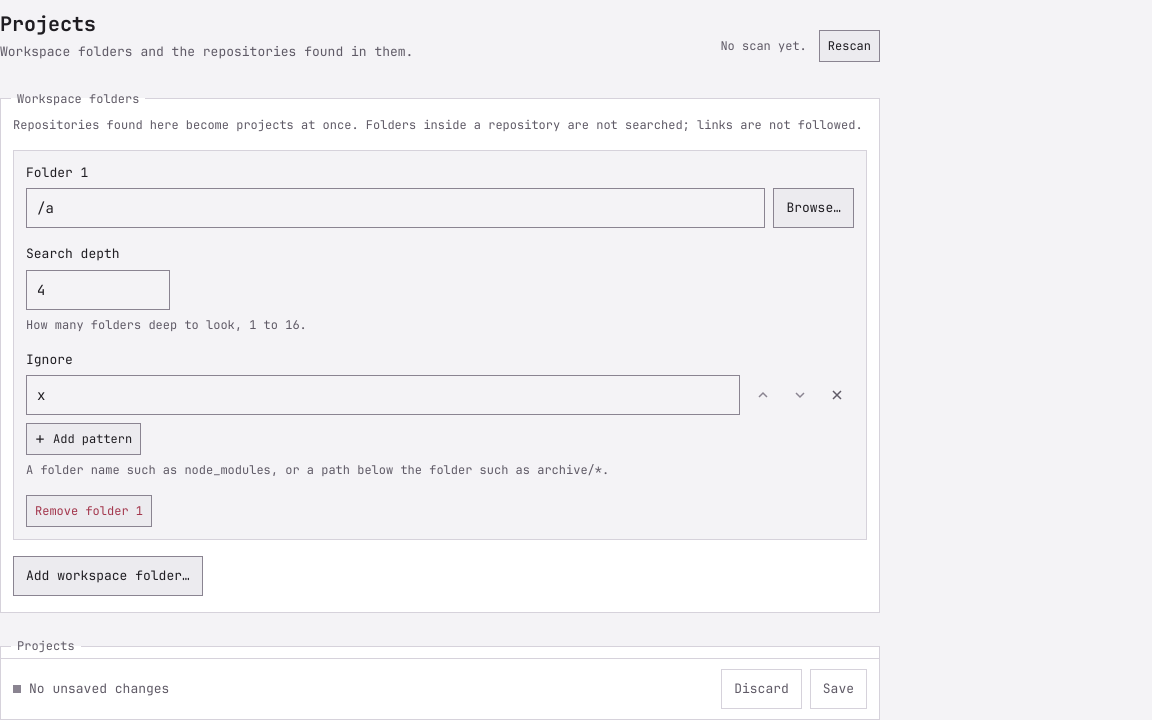
Test: a refused folder shows the server message under the field the server names, and focus moves there
Replace the text in the field labelled "Folder 1" with "relative/path" at (396, 208), box [26,188,765,228]
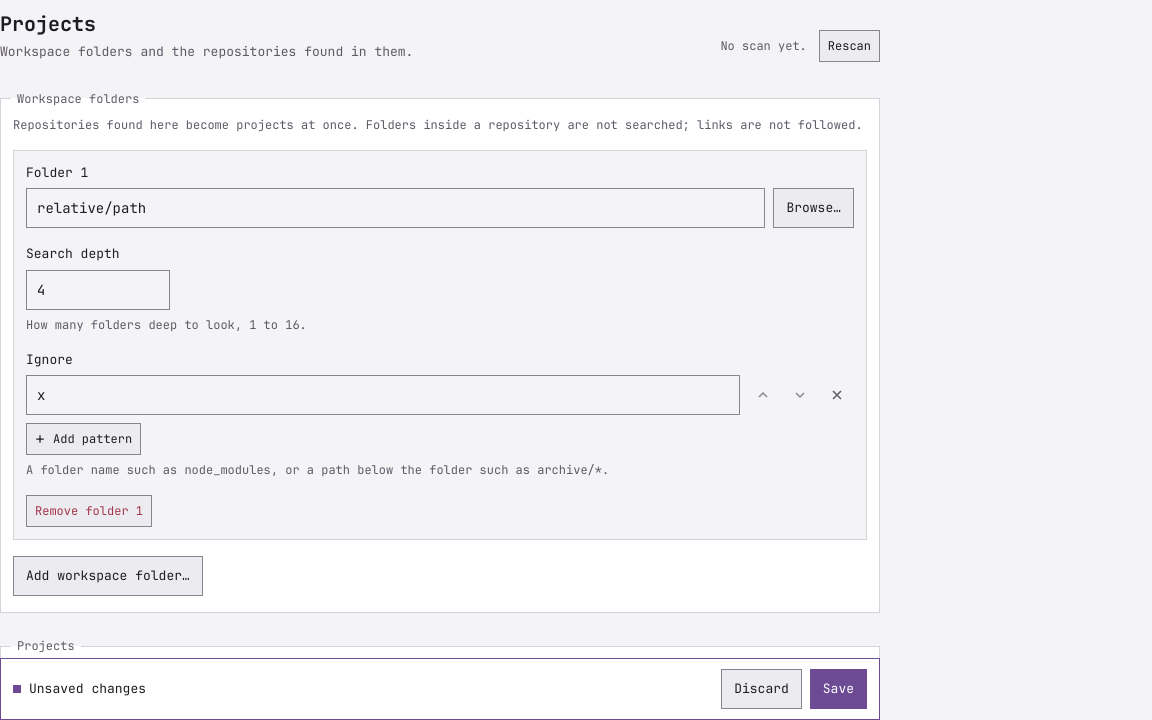
Click the button "Save" at (838, 689), box [810,669,867,709]
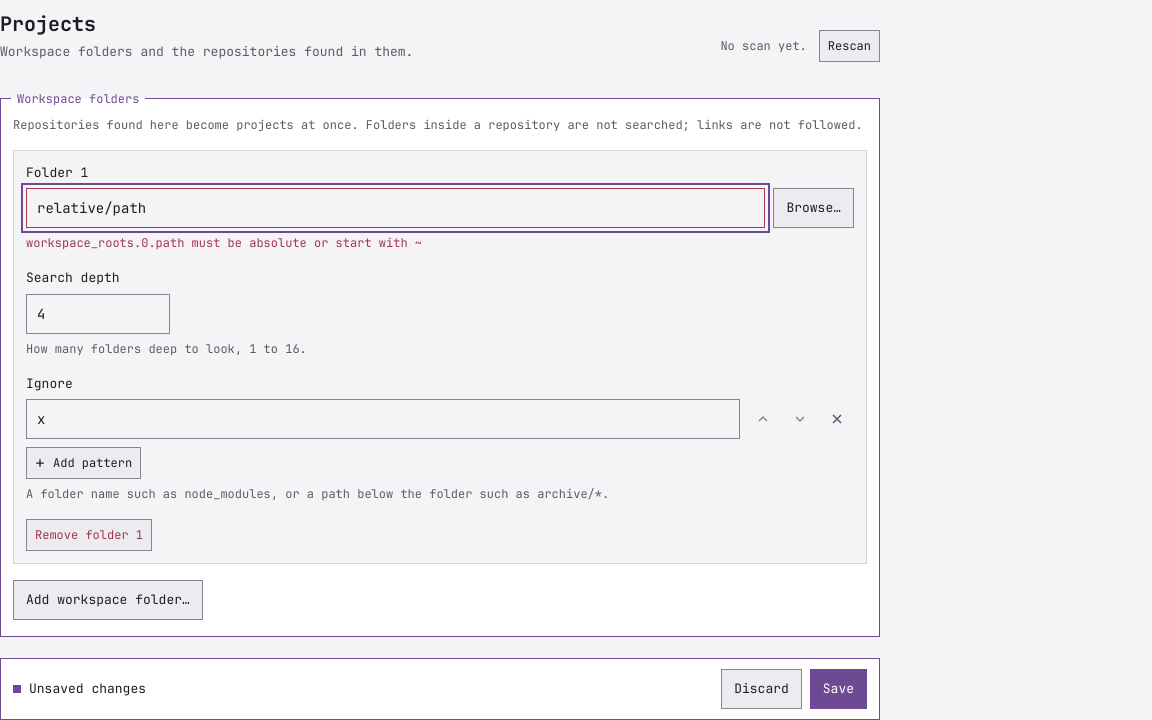
Result: the text with class "omo-field__error" reads "workspace_roots.0.path must be absolute or start with ~" at [26,235,422,251]
Replace the text in the field labelled "Folder 1" with "/b" at (396, 208), box [26,188,765,228]
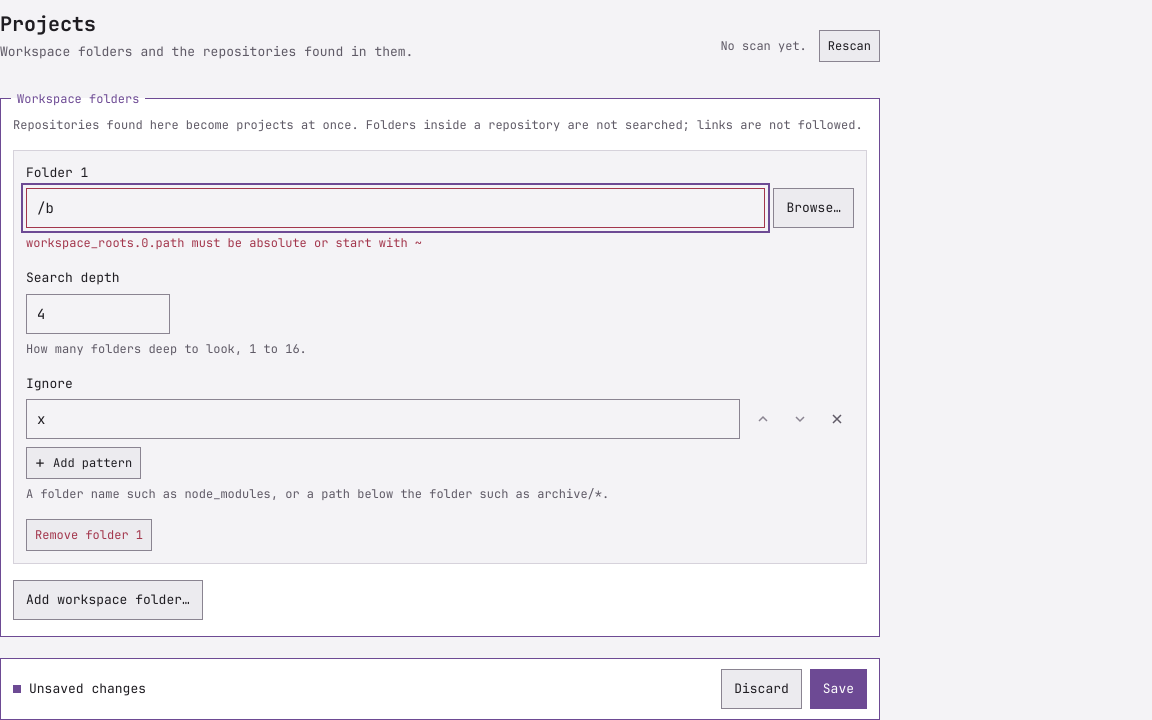
Click the button "Save" at (838, 689), box [810,669,867,709]
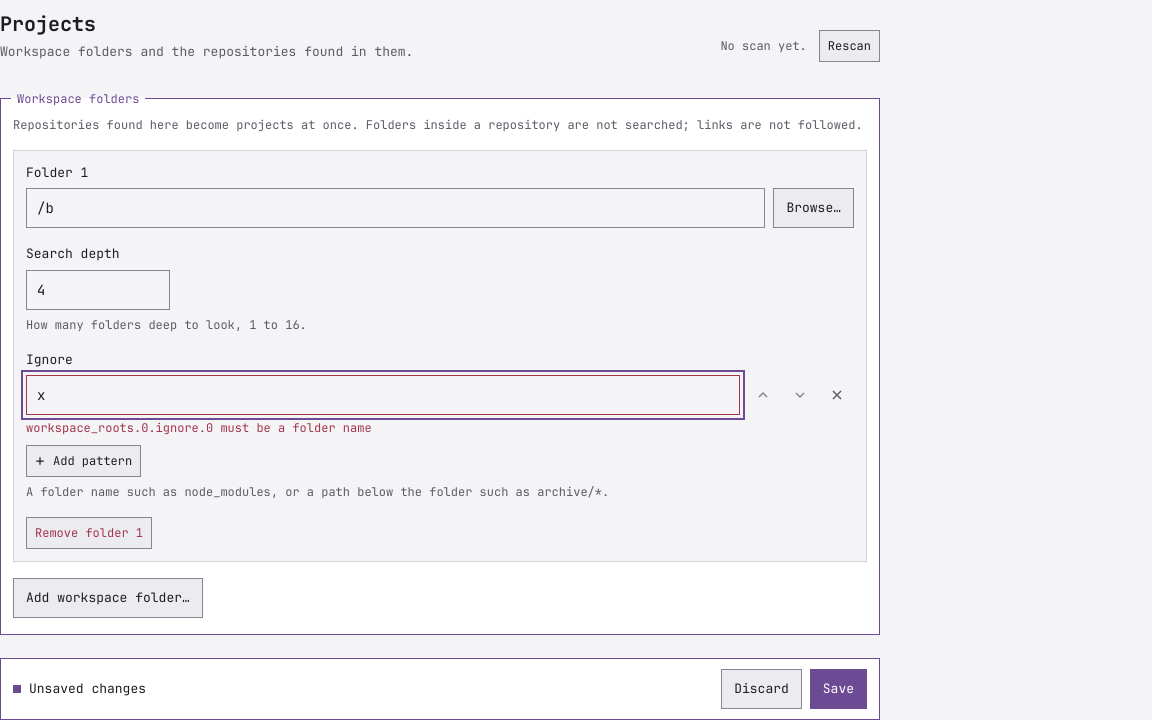
Result: the text with class "omo-field__error" reads "workspace_roots.0.ignore.0 must be a folder name" at [26,420,372,436]
